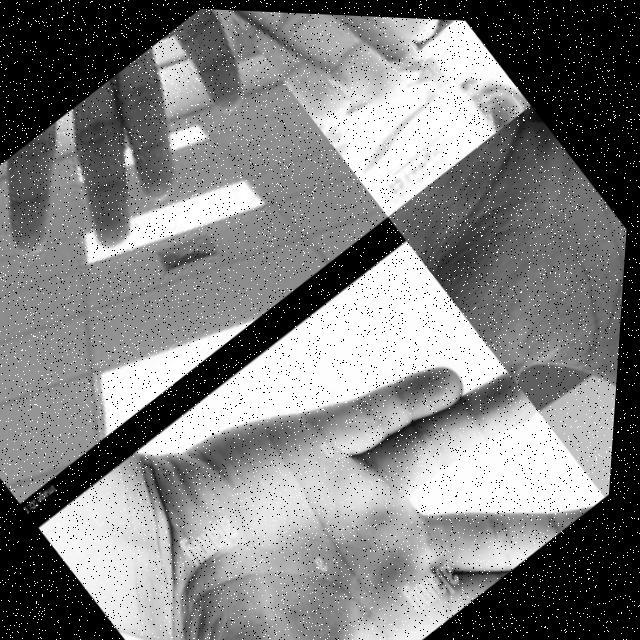no-gloves: (69, 234, 624, 640), (0, 0, 308, 318), (398, 120, 634, 492), (209, 8, 476, 146)
